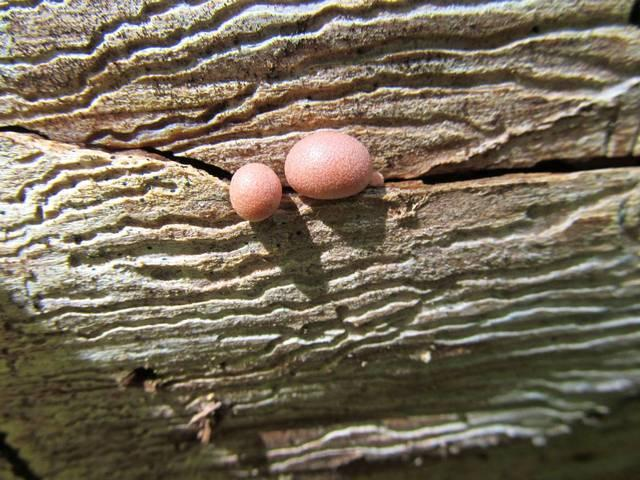Non-edible Mushroom: (283, 127, 372, 200), (228, 161, 282, 222)
